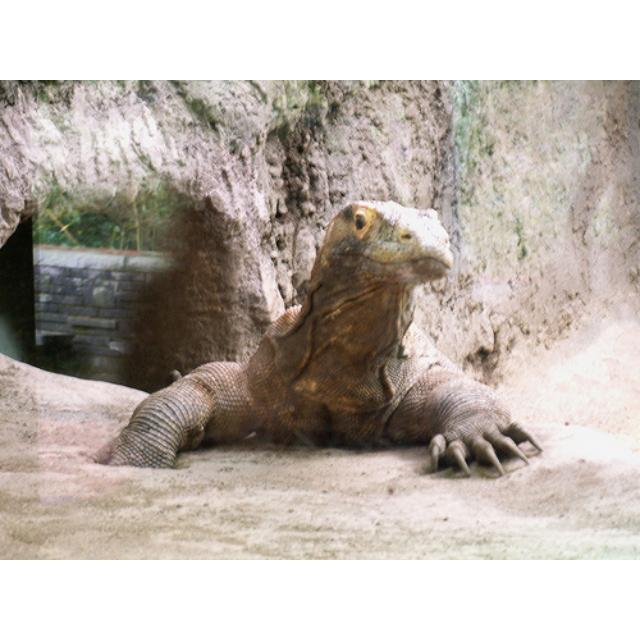KomodoDragon: (85, 195, 540, 475)
